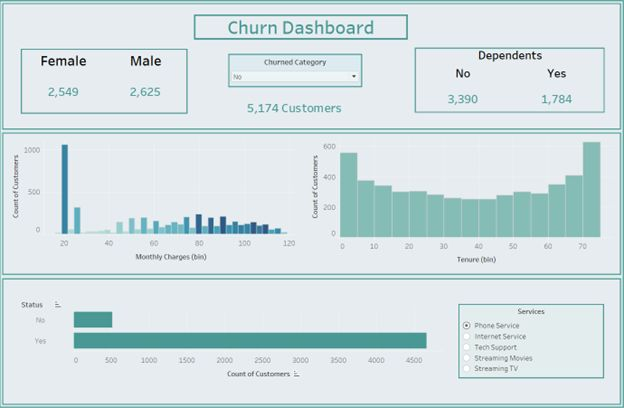

What the dashboard file says about the page in this screenshot:
{"tool":"tableau","page":{"name":"Churn Dashboard","canvas":[1296,721],"ordinal":0},"visuals":[{"type":"text","box":[391,28,447,56]},{"type":"worksheet","title":"Gender","mark":"Automatic","cols":["gender"],"box":[21,60,347,143]},{"type":"worksheet","title":"Dependents","mark":"Automatic","cols":["Dependents"],"box":[861,61,396,143]},{"type":"filter","title":"Churned","param":"[federated.00rv16m1a790rt12j3hhy0vndn1g].[none:Churn:nk]","box":[477.2,95.7,279.2,73.3]},{"type":"worksheet","title":"Churned","mark":"Automatic","cols":["Churn"],"box":[509,136,220,70]},{"type":"worksheet","title":"Tenure","mark":"Bar","rows":["WA!Fn-UseC!-Telco-Customer-Chur_29FA972C68E74966A4A5CFF78972"],"cols":["Tenure (bin)"],"box":[669,228,592,244]},{"type":"worksheet","title":"Monthly Charges","mark":"Automatic","rows":["WA!Fn-UseC!-Telco-Customer-Chur_29FA972C68E74966A4A5CFF78972"],"cols":["Monthly Charges (bin)"],"box":[22,229,567,238]},{"type":"worksheet","title":"Services","mark":"Automatic","rows":["Calculation_1320680654562873345"],"cols":["WA!Fn-UseC!-Telco-Customer-Chur_29FA972C68E74966A4A5CFF78972"],"box":[20,499,909,186]},{"type":"parameter","param":"[Parameters].[Parameter 1]","box":[953,507,304,164]}]}

Visuals, with their boxes on the page's 1296x721 design canvas (x1, y1, x2, y2). These are canvas units, not pixel positions in the 624x408 screenshot, which may show the page scaled, cropped or inside an application window:
text: bbox=(391, 28, 838, 84)
"Gender" worksheet: bbox=(21, 60, 368, 203)
"Dependents" worksheet: bbox=(861, 61, 1257, 204)
"Churned" filter: bbox=(477, 96, 756, 169)
"Churned" worksheet: bbox=(509, 136, 729, 206)
"Tenure" worksheet (Bar marks): bbox=(669, 228, 1261, 472)
"Monthly Charges" worksheet: bbox=(22, 229, 589, 467)
"Services" worksheet: bbox=(20, 499, 929, 685)
parameter: bbox=(953, 507, 1257, 671)
